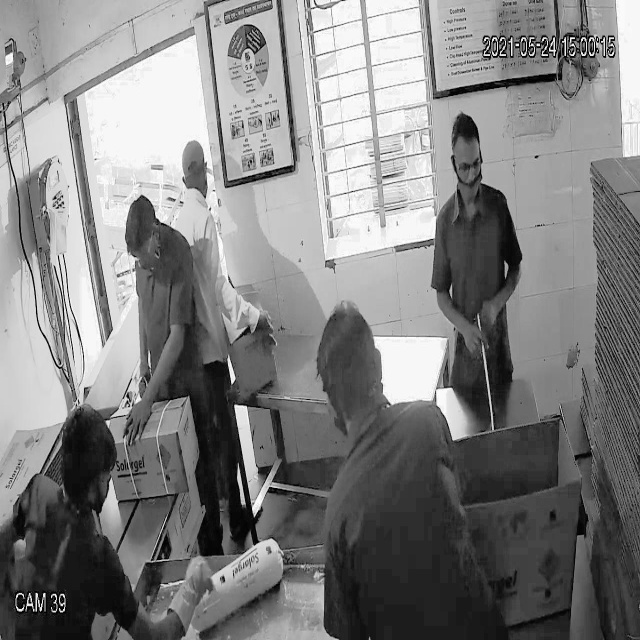Gafas: (450, 151, 486, 181)
